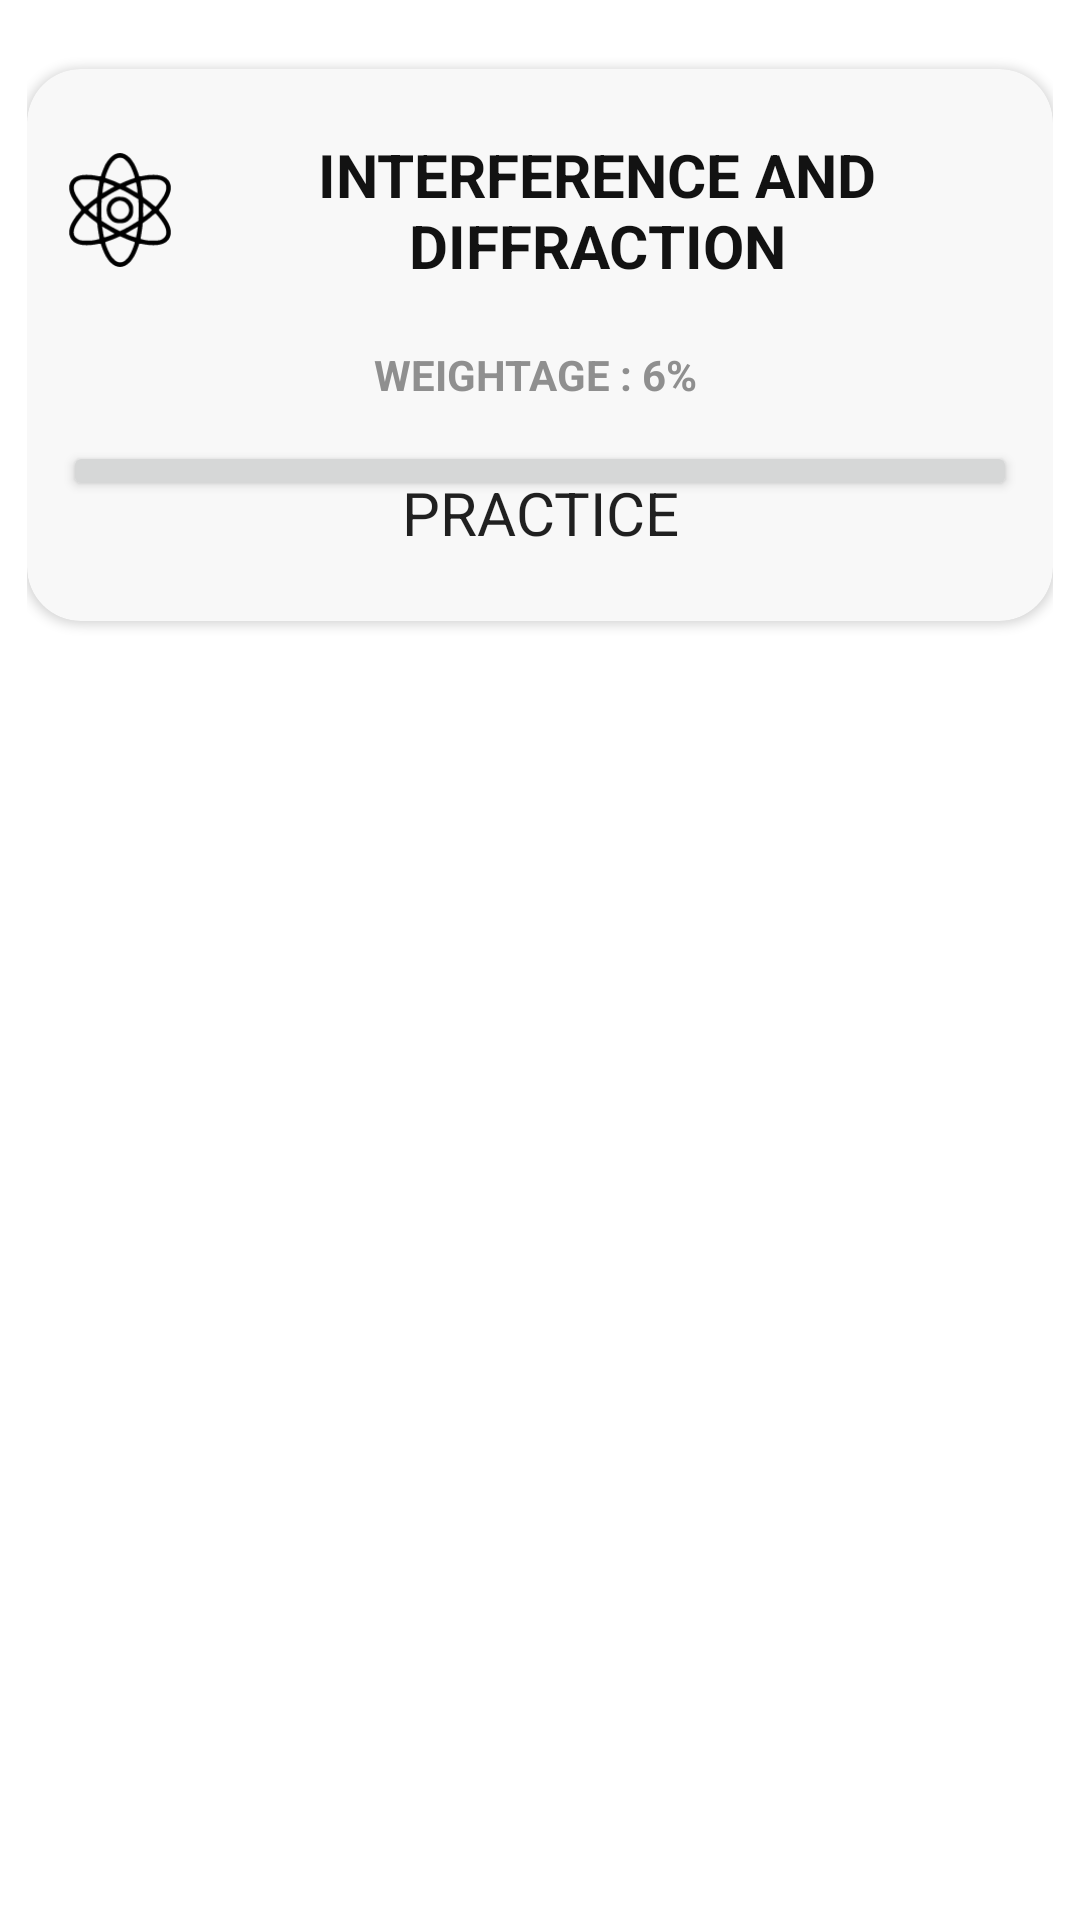

Locate icon controls on the screen. Image size 1080w x 1920h, boxes as [x1=x1, y1=y1, x2=x2, y2=y2].
physics: [x1=69, y1=153, x2=171, y2=267]
